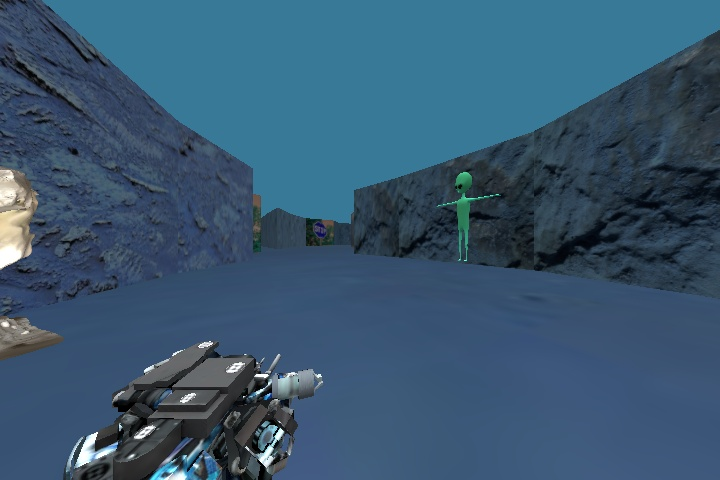green_alien: (432, 169, 495, 266)
stop_sign: (310, 221, 326, 236)
